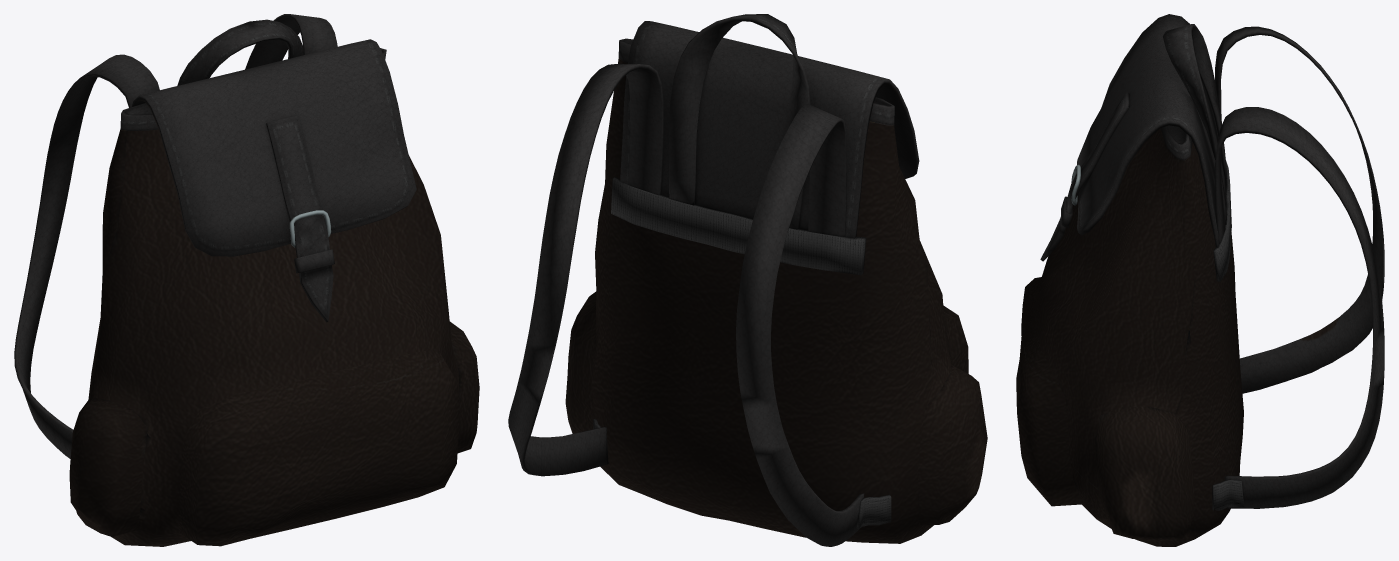
File: Bag 1.fbx
The picture shows the model from 3 angles, left to right: view 1: azimuth 30°, elevation 25°; view 2: azimuth 150°, elevation 25°; view 3: azimuth 270°, elevation 25°; orthographic projection. The views are drawn at different scales.
Visible parts, largest first — view 1: Bag; view 2: Bag; view 3: Bag.
Part boxes in pixels (x1,y1,x2,y2): Bag: (14,14,479,546); Bag: (508,14,987,546); Bag: (1016,14,1384,546).
Size of the model in its own units: 37.55 by 44.13 by 32.3.
Materials: 1 (1 with a texture image).
